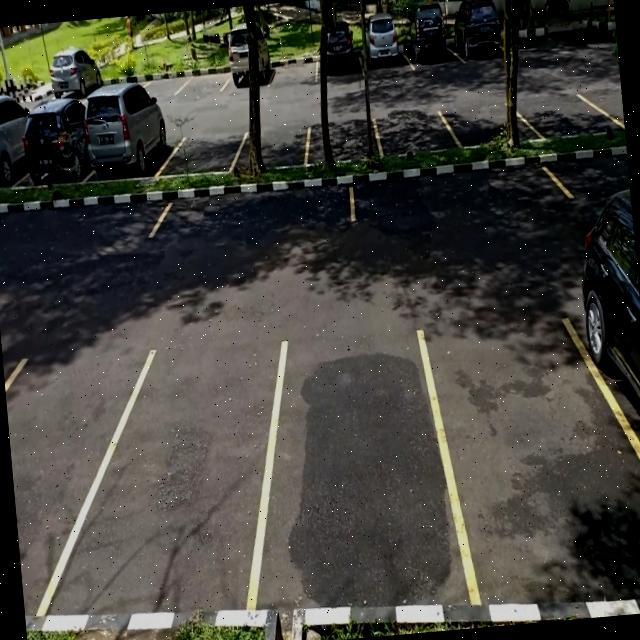empty: (256, 328, 458, 610), (437, 302, 623, 602), (83, 346, 277, 611), (2, 356, 103, 612), (348, 156, 564, 222), (160, 174, 354, 241), (0, 190, 164, 258), (446, 97, 532, 148), (233, 120, 312, 173), (526, 86, 606, 138), (377, 106, 451, 160), (166, 126, 241, 178), (306, 116, 380, 164), (176, 61, 228, 100), (269, 48, 317, 86)
occupied: (80, 108, 172, 180), (16, 104, 90, 188), (450, 14, 504, 63), (406, 23, 454, 71), (359, 31, 410, 76), (314, 36, 362, 80), (225, 50, 273, 90)
